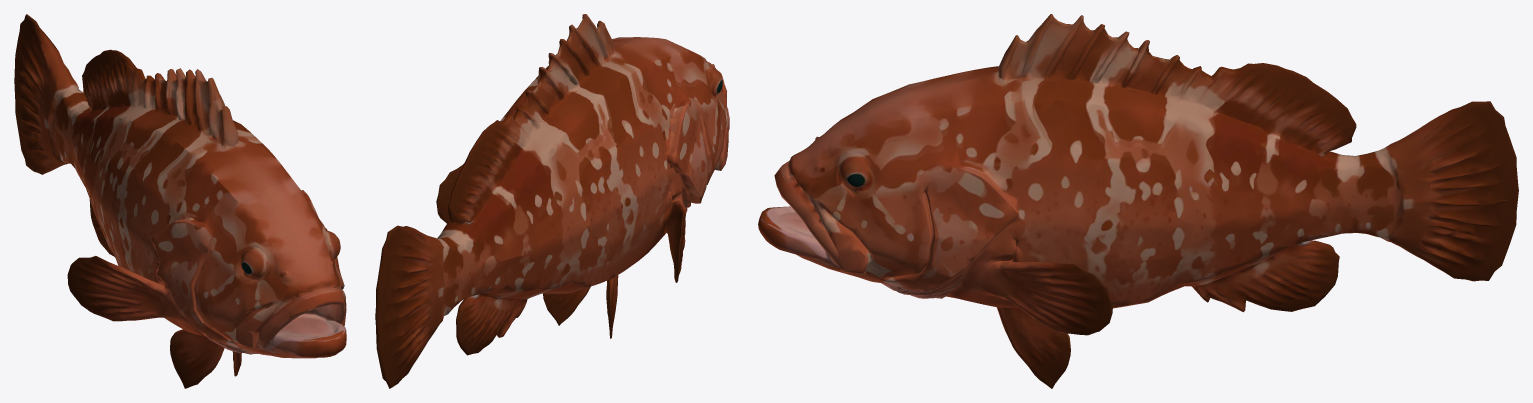
The model's file is redgrouper.glb.
3 views of the same model, side by side, from view 1: azimuth 30°, elevation 25°; view 2: azimuth 150°, elevation 25°; view 3: azimuth 270°, elevation 25° (orthographic). The views are drawn at different scales.
Visible parts, largest first — view 1: tripo_node_d892a5f4-bd1a-4355-ab75-98fd081cd5e2; view 2: tripo_node_d892a5f4-bd1a-4355-ab75-98fd081cd5e2; view 3: tripo_node_d892a5f4-bd1a-4355-ab75-98fd081cd5e2.
Boxes of the visible parts, x1,y1,x2,y2 form: tripo_node_d892a5f4-bd1a-4355-ab75-98fd081cd5e2: (14,14,346,388); tripo_node_d892a5f4-bd1a-4355-ab75-98fd081cd5e2: (375,14,729,388); tripo_node_d892a5f4-bd1a-4355-ab75-98fd081cd5e2: (758,14,1518,388).
Bounding box in the file's own units: 0.4182 × 0.5218 × 1.
1 material, 1 textured.
